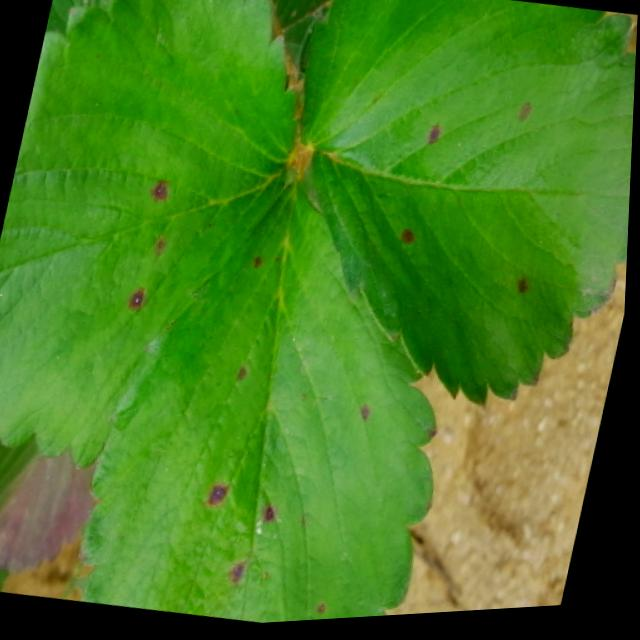Leaf Spot: (84, 171, 441, 626), (0, 0, 304, 469), (294, 0, 637, 415)
